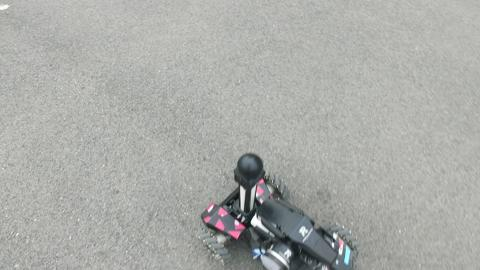chariot: (197, 152, 359, 270)
